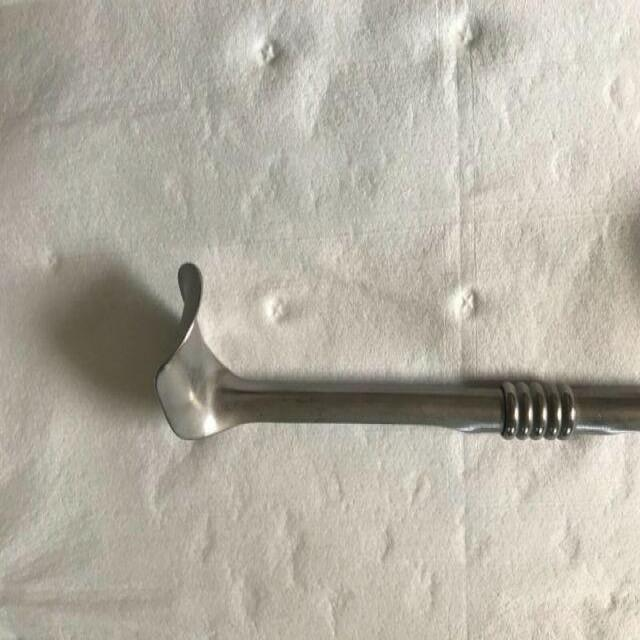Richardson: (151, 257, 640, 451)
